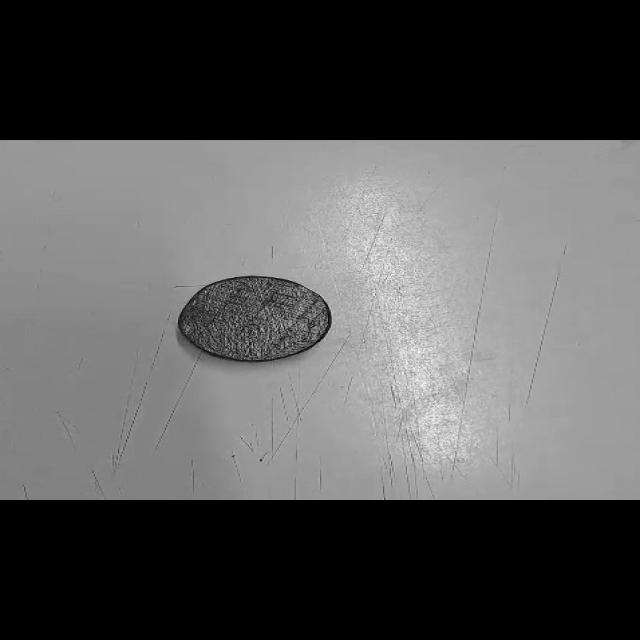rcircle: (179, 276, 332, 362)
